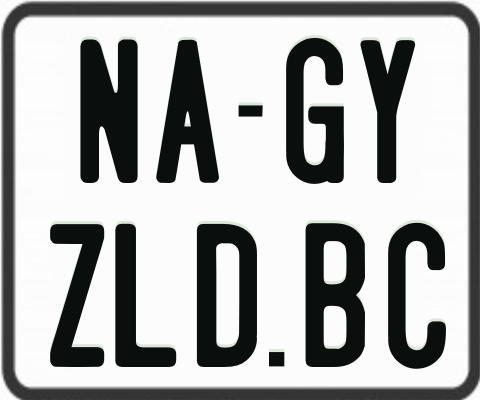A: (153, 39, 220, 185)
B: (305, 220, 370, 370)
C: (388, 223, 449, 371)
D: (195, 222, 255, 365)
G: (284, 36, 342, 185)
L: (113, 221, 177, 368)
N: (77, 36, 136, 181)
Y: (360, 38, 418, 185)
Z: (49, 223, 105, 367)
